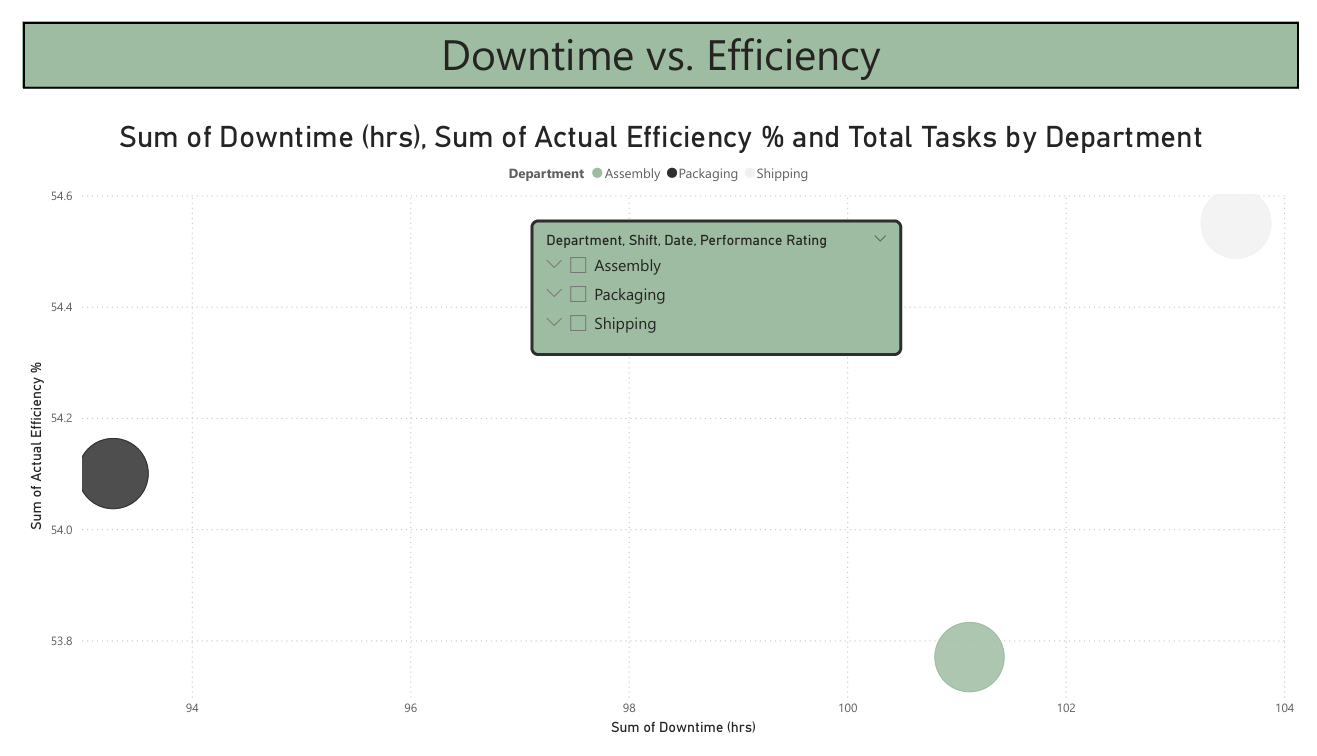

The page's visual inventory and layout, read from the dashboard file:
{"tool":"powerbi","page":{"name":"Downtime vs. Efficiency","canvas":[1280,720],"ordinal":3},"visuals":[{"type":"scatterChart","fields":{"X":["Sum(Sheet1.Downtime (hrs))"],"Y":["Sum(Sheet1.Actual Efficiency %)"],"Size":["Sheet1.Total Tasks"],"Series":["Sheet1.Department"]},"box":[0,86.8,1280,632.8],"z":0},{"type":"slicer","fields":{"Values":["Sheet1.Department","Sheet1.Shift","Sheet1.Date","Sheet1.Performance Rating"]},"box":[508.6,197.7,373.6,137.4],"z":1000},{"type":"textbox","box":[0,0,1280,67.5],"z":2000}]}

Visuals, with their boxes in screenshot pixels (x1, y1, x2, y2), scaled from the page's 1280x720 canvas onto the 1317x756 screenshot:
scatterChart - Sum(Sheet1.Downtime (hrs)) x Sum(Sheet1.Actual Efficiency %): detection(0, 91, 1316, 755)
slicer - Sheet1.Department x Sheet1.Shift: detection(523, 208, 908, 352)
textbox: detection(0, 0, 1316, 71)
